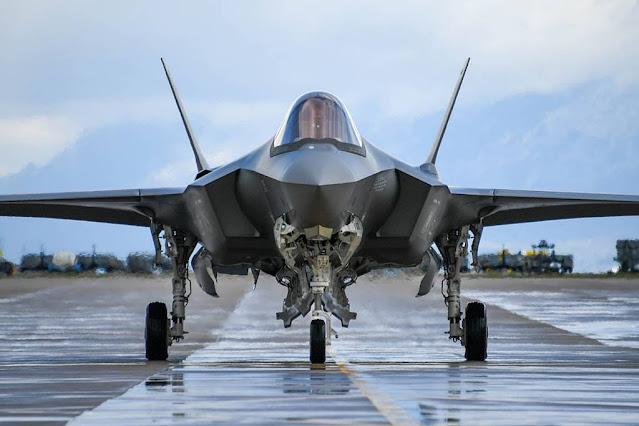F35: (2, 56, 639, 372)
